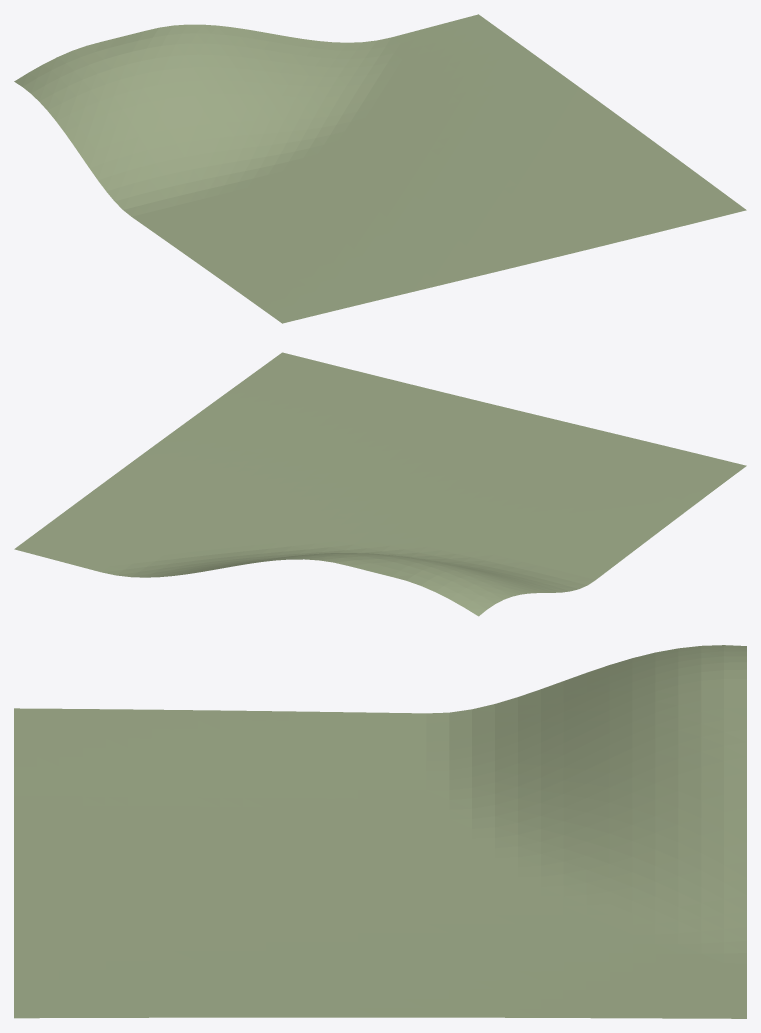
Rendered from desert-23-26.glb.
3 renders of one model, top to bottom at view 1: azimuth 30°, elevation 25°; view 2: azimuth 150°, elevation 25°; view 3: azimuth 270°, elevation 25°, orthographic. The views are drawn at different scales.
Visible parts, largest first — view 1: desert-23-26; view 2: desert-23-26; view 3: desert-23-26.
Boxes of the visible parts, left/top/right/bottom form: desert-23-26: left=14, top=14, right=746, bottom=323; desert-23-26: left=14, top=352, right=746, bottom=616; desert-23-26: left=14, top=645, right=746, bottom=1018.
Size of the model in its own units: 512 by 71.58 by 512.
